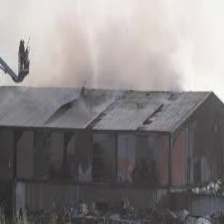smoke: (47, 25, 178, 83)
